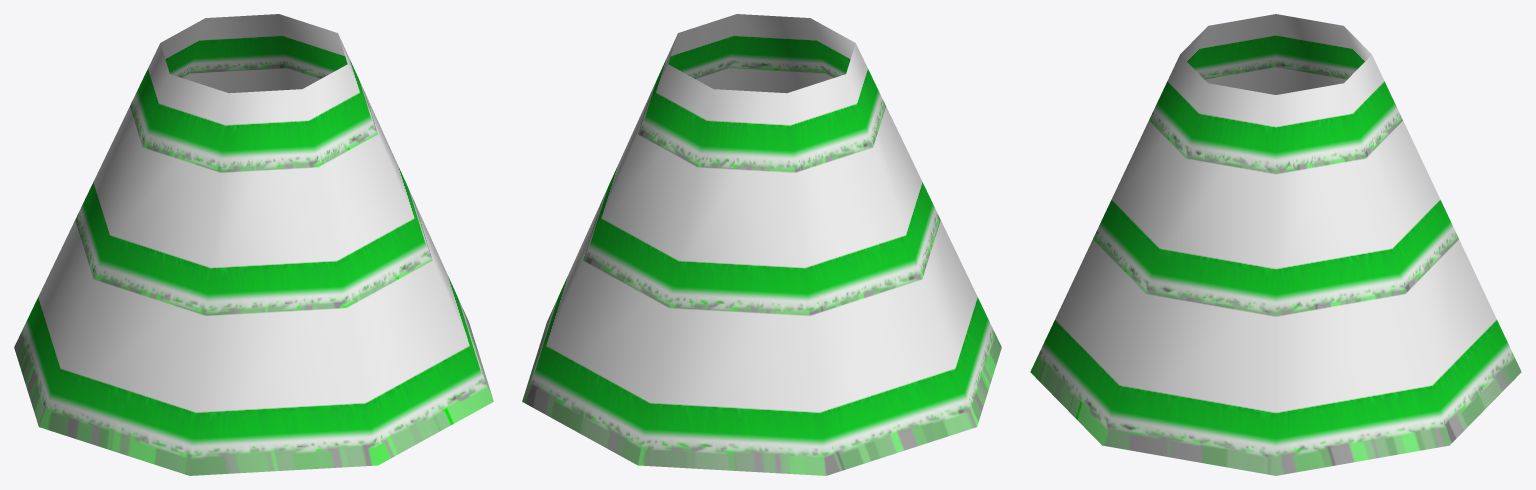
File: ShotRipple.fbx
3 renders of one model, left to right at view 1: azimuth 30°, elevation 25°; view 2: azimuth 150°, elevation 25°; view 3: azimuth 270°, elevation 25°, orthographic.
Parts seen in each view (by area): view 1: polymsh; view 2: polymsh; view 3: polymsh.
Boxes of the visible parts, x1,y1,x2,y2 form: polymsh: [14, 14, 493, 475]; polymsh: [522, 14, 1001, 475]; polymsh: [1030, 14, 1521, 475].
Size of the model in its own units: 30.94 by 22.06 by 30.94.
